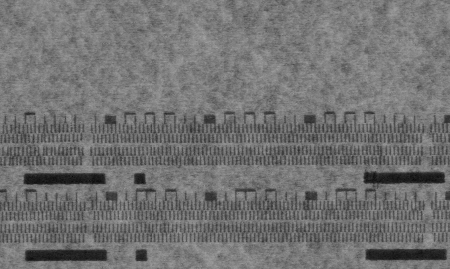Oblique printing: (2, 145, 56, 167)
